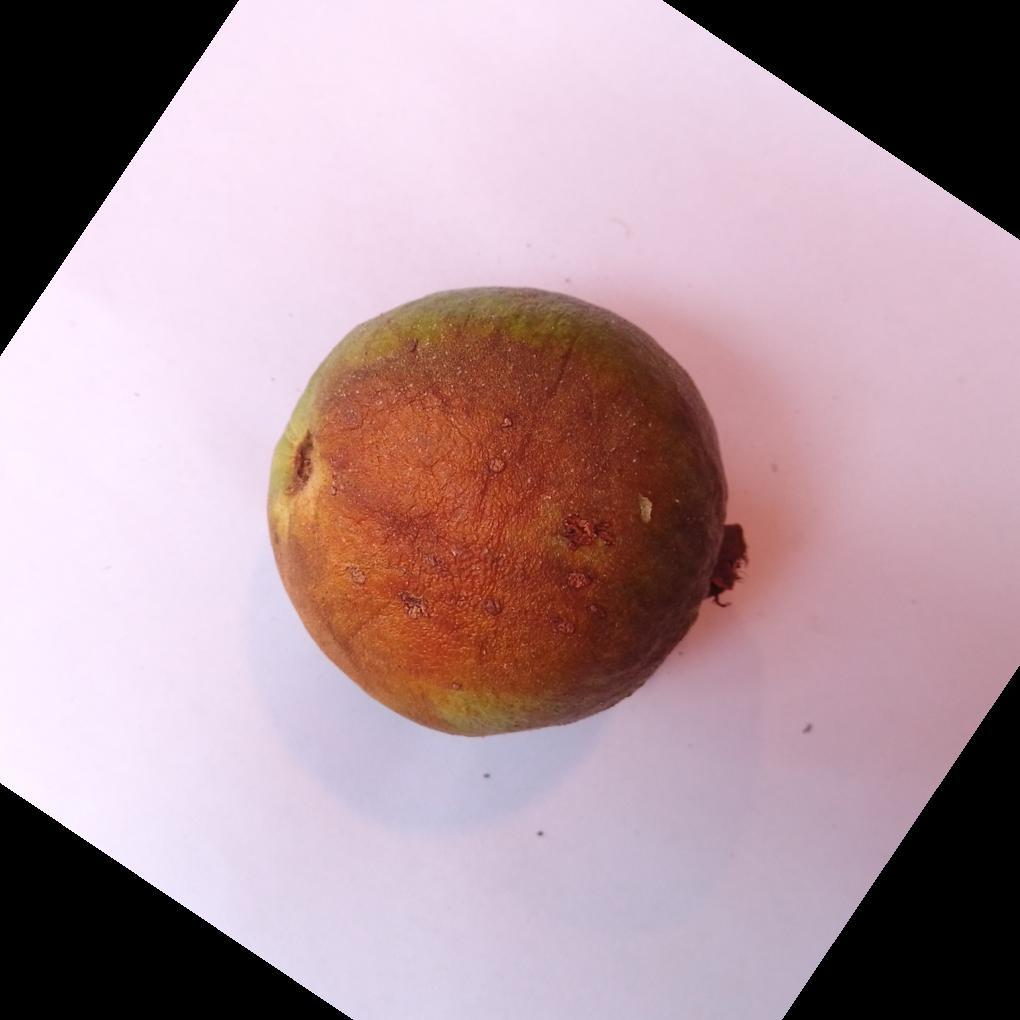FreshOrange: (263, 288, 741, 742)
